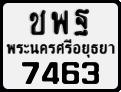letters: (74, 8, 90, 38), (30, 8, 47, 36), (51, 9, 69, 35), (21, 61, 40, 85), (41, 61, 60, 85), (81, 61, 100, 85), (61, 61, 80, 84)
province: (6, 38, 117, 59)
